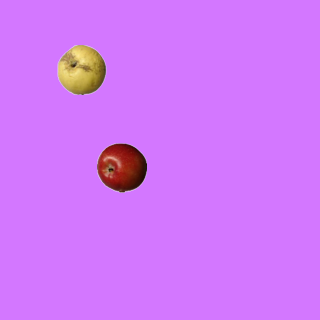Apple Braeburn: (96, 142, 146, 192)
Apple Golden 1: (56, 44, 106, 94)
